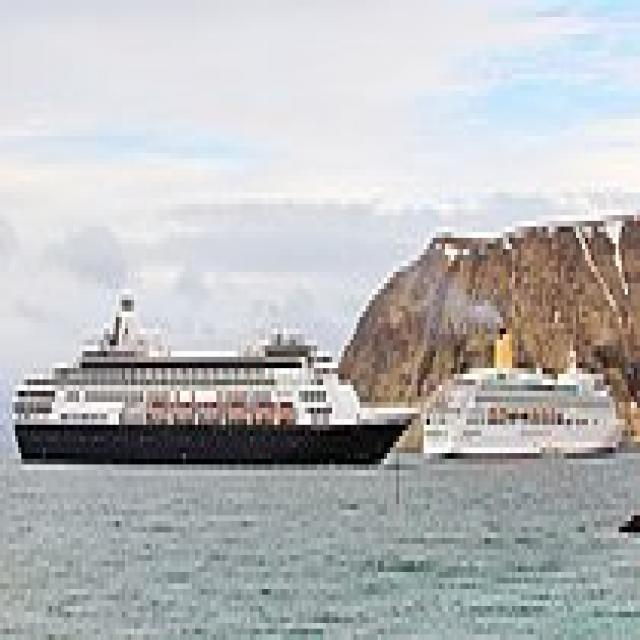Ship: (5, 284, 431, 488), (400, 307, 635, 483)
